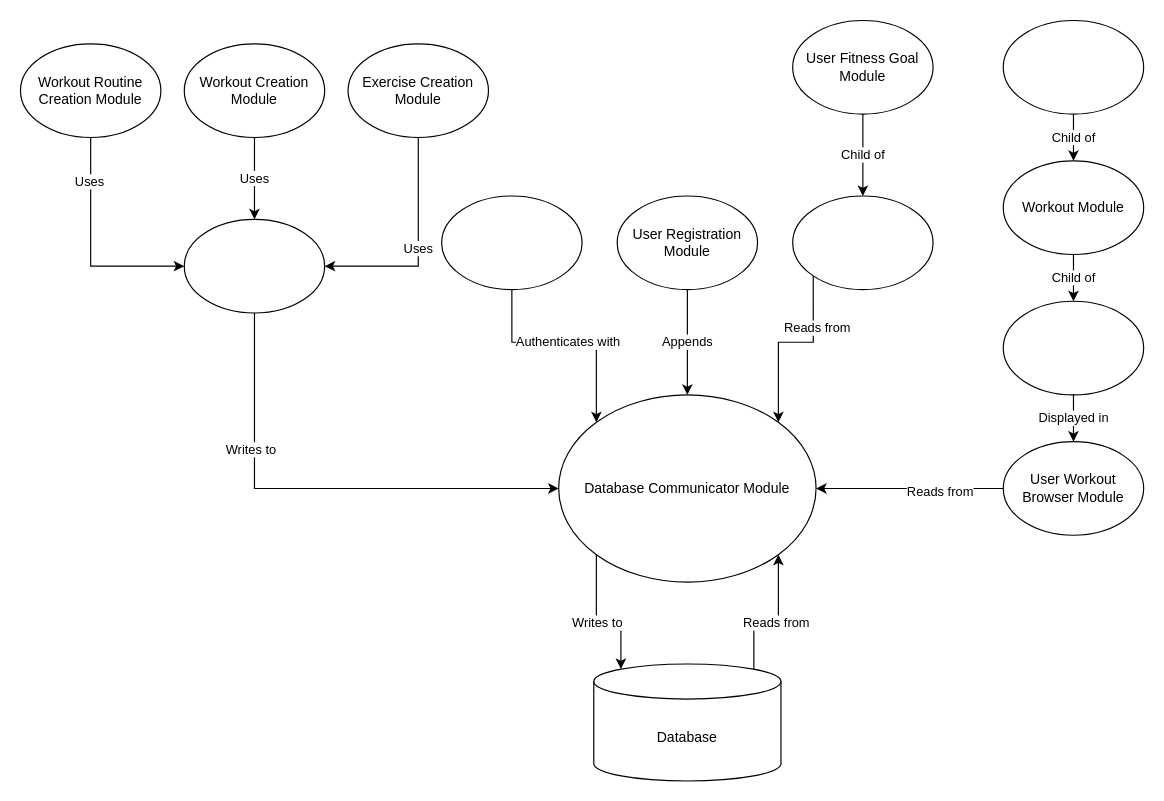
The diagram is 1164 pixels wide and 801 high, and some of its shapes have lost their labels. The centre of each missing label's shape, as x and y in pixels:
"Creation Module" goes at point (254, 265).
"Exercise Module" goes at point (1073, 66).
"User Login Module" goes at point (511, 242).
"User Profile Module" goes at point (862, 242).
"Workout Routine Module" goes at point (1073, 347).
